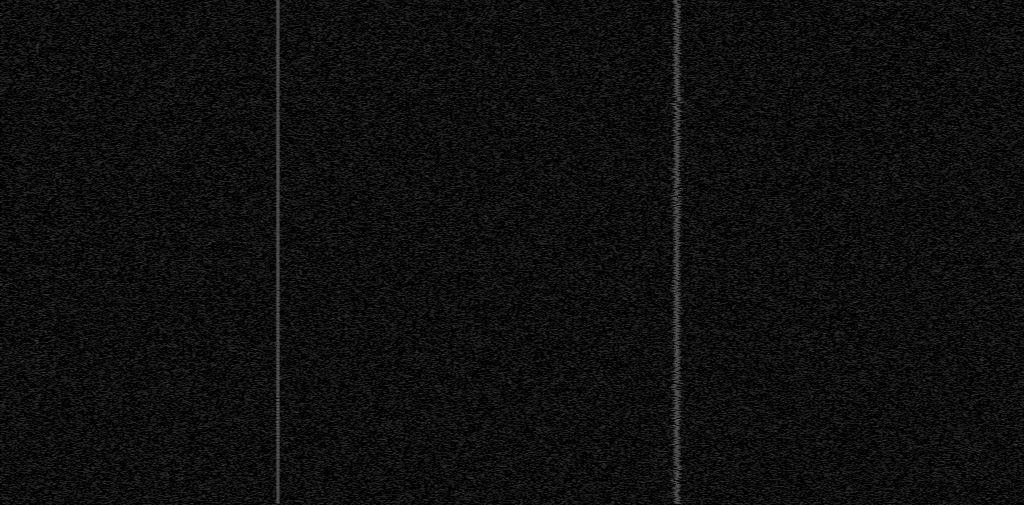wv_am: (275, 0, 281, 504)
wv_lsb: (35, 336, 40, 353), (35, 43, 40, 59), (36, 391, 39, 408), (36, 237, 39, 248), (36, 100, 39, 111), (36, 279, 39, 289), (36, 141, 39, 151), (36, 354, 39, 362), (36, 112, 39, 120), (36, 363, 39, 369), (36, 89, 39, 94), (36, 442, 39, 447), (36, 412, 39, 417), (36, 370, 39, 375), (36, 95, 39, 99), (36, 315, 39, 318), (36, 302, 39, 305), (36, 275, 39, 278), (36, 258, 39, 261), (36, 492, 39, 495), (36, 82, 39, 85), (36, 72, 39, 75), (36, 64, 39, 67), (36, 457, 39, 460), (36, 438, 39, 441)
wv_wbfm: (669, 0, 685, 504)
